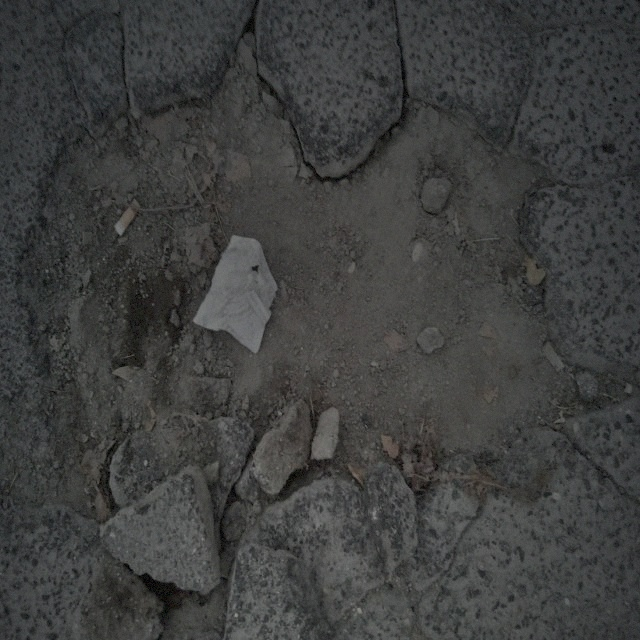pothole: (14, 63, 586, 536)
